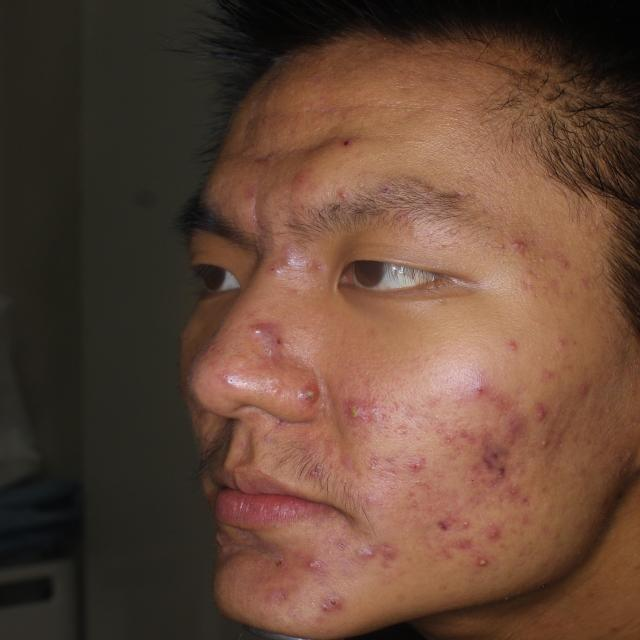acne: (341, 397, 388, 442), (278, 379, 322, 417), (237, 309, 278, 349), (369, 536, 404, 574), (469, 440, 511, 470), (426, 424, 470, 451), (551, 251, 589, 281), (313, 589, 349, 620), (328, 130, 363, 160), (494, 483, 530, 512), (497, 232, 535, 259), (269, 242, 299, 275), (532, 360, 565, 390), (498, 417, 527, 447), (535, 438, 561, 468), (579, 378, 605, 407), (298, 254, 328, 279), (493, 332, 519, 360), (522, 401, 550, 427), (236, 187, 272, 207), (459, 376, 500, 393), (295, 550, 319, 579), (344, 540, 364, 572), (483, 525, 511, 545), (399, 453, 420, 477), (487, 397, 519, 411), (550, 333, 574, 351), (469, 555, 492, 572), (286, 180, 316, 191), (460, 519, 481, 532)
